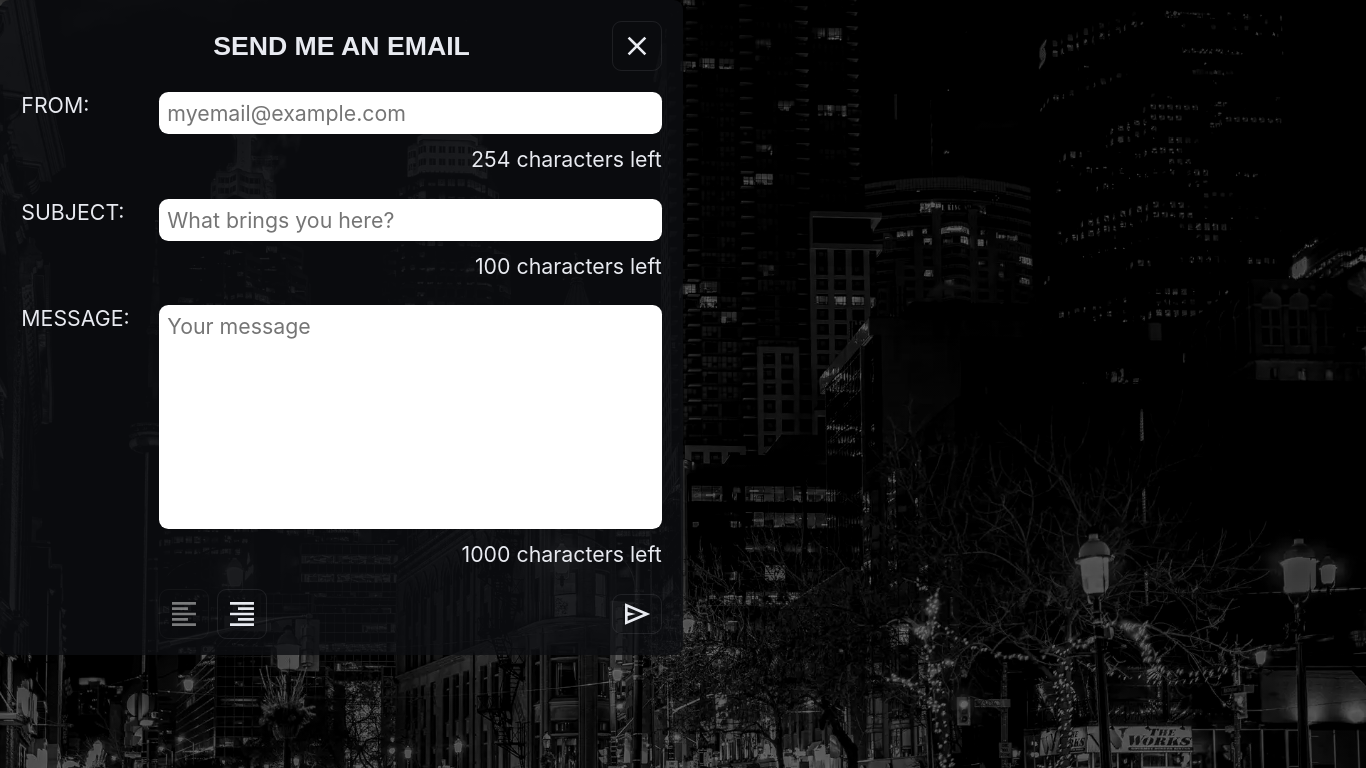
Test: MessageForm › displays the resolved failure message after submission
Type "me@example.com" into the field labelled "From:" at [410, 113], box [159,92,662,134]
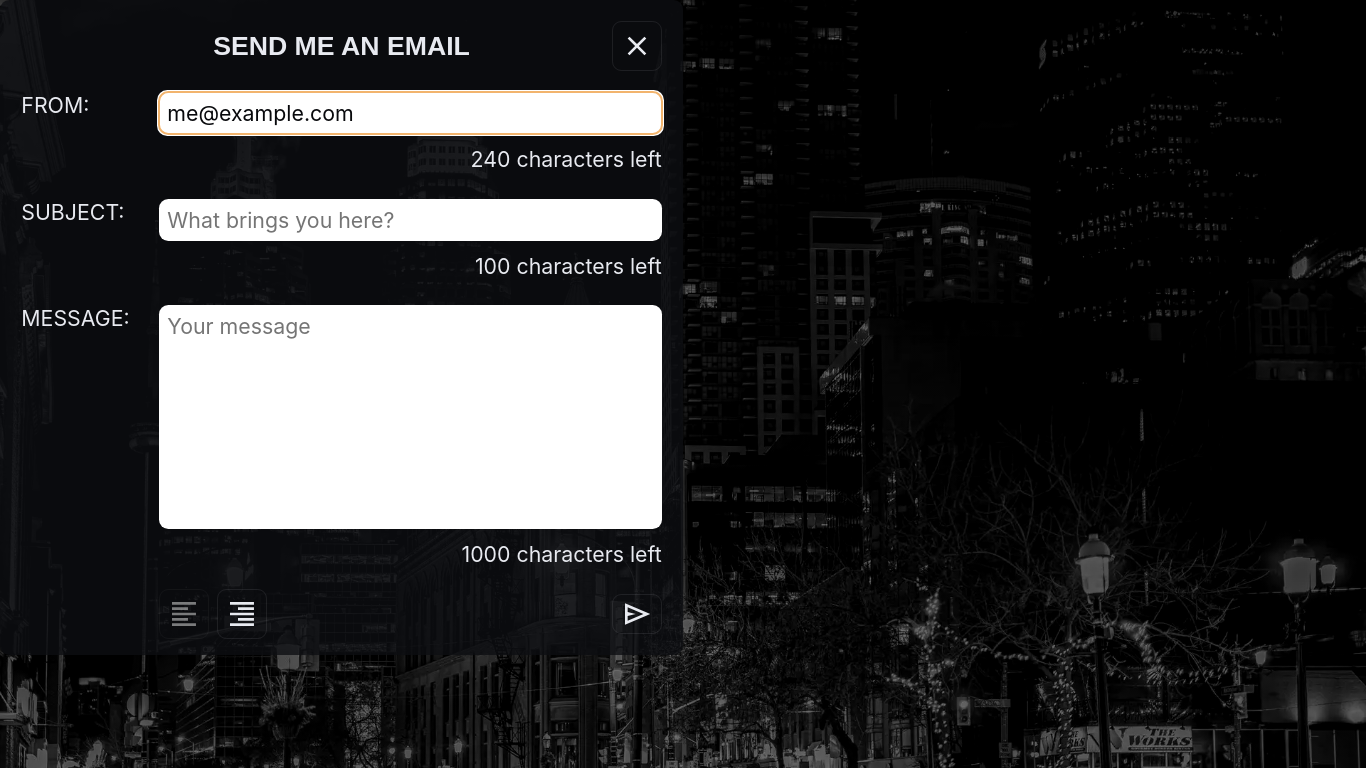
Type "Hello there" into the field labelled "Subject:" at [410, 220], box [159,199,662,241]
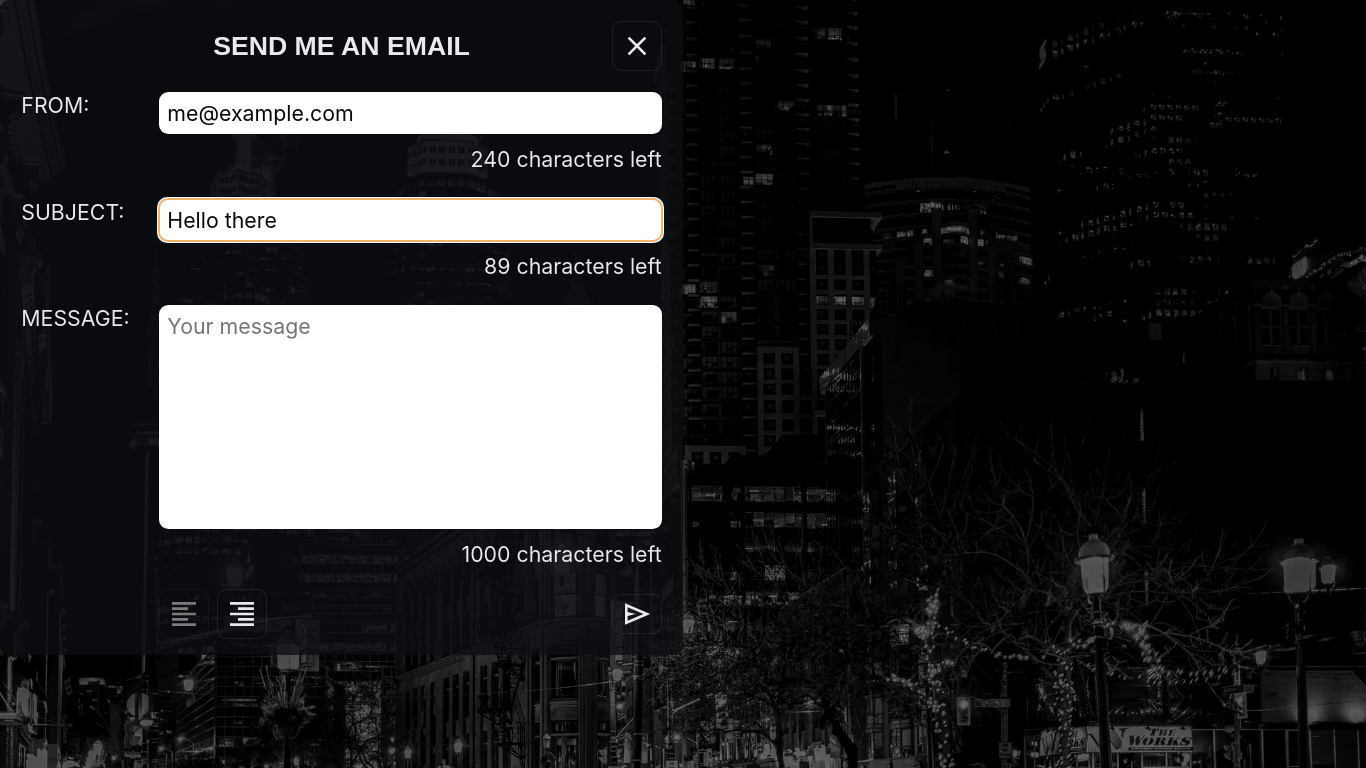
Type "Hi, this is a message" into the text box labelled "Message:" at [410, 417], box [159,305,662,529]
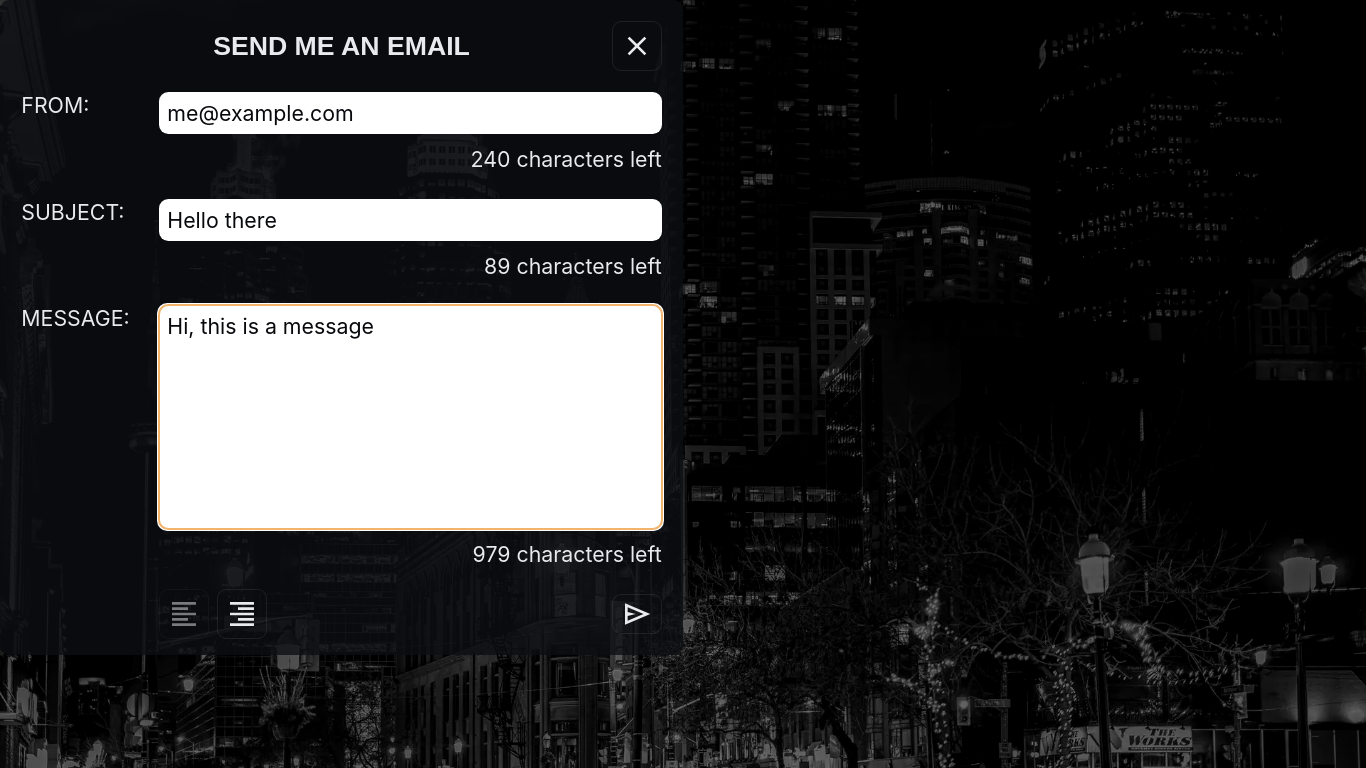
Click the button named "Send" at [637, 614], box [612,594,662,634]
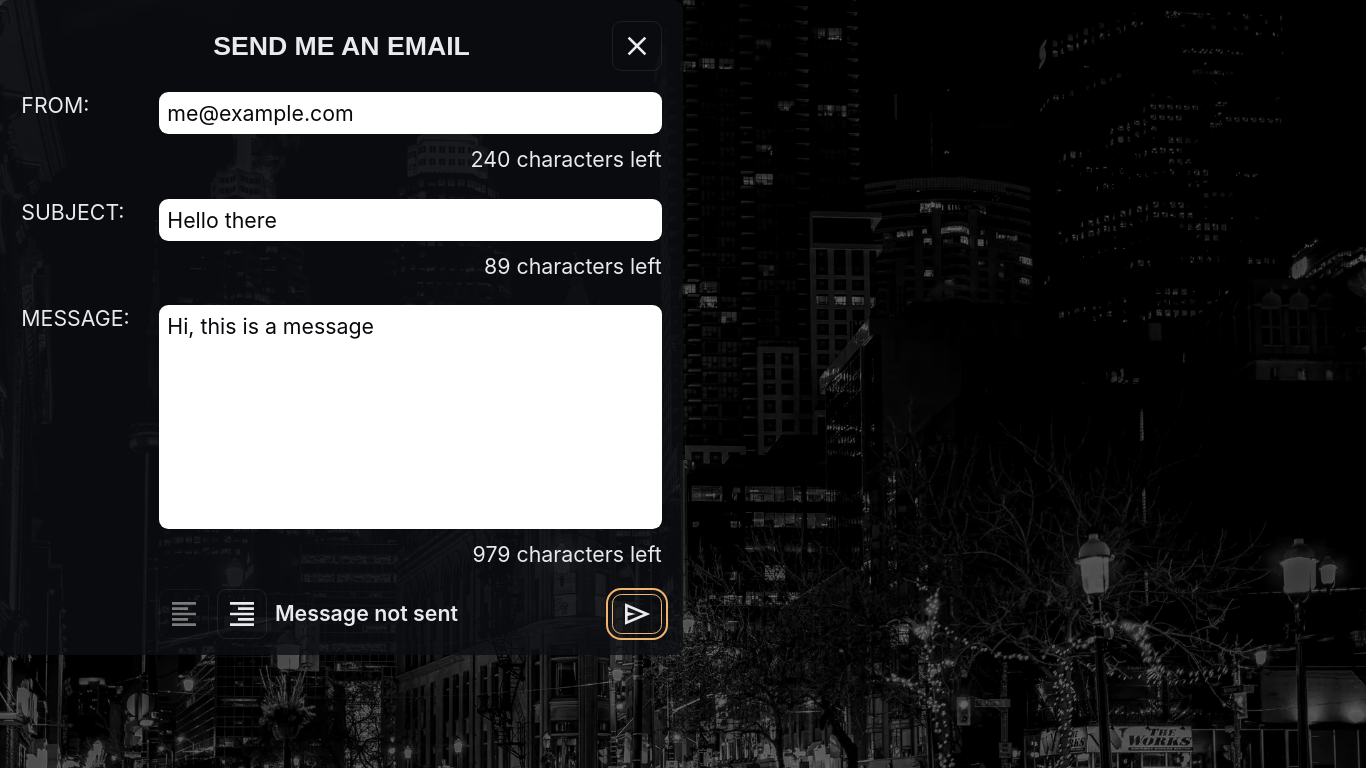
Now the text "Message not sent" is shown, box [275,600,458,626]
